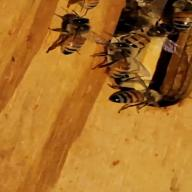Bee: (42, 11, 103, 58), (94, 54, 151, 87), (100, 36, 160, 58), (104, 87, 160, 110)
